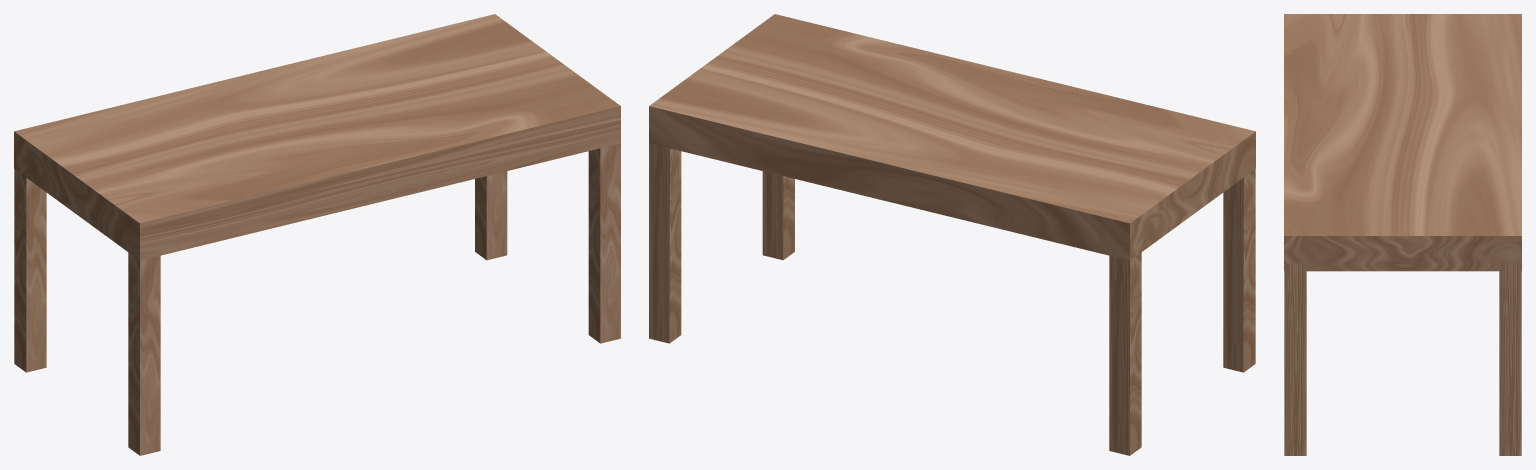
Rendered from table.fbx.
3 renders of one model, left to right at view 1: azimuth 30°, elevation 25°; view 2: azimuth 150°, elevation 25°; view 3: azimuth 270°, elevation 25°, orthographic. The views are drawn at different scales.
Visible parts, largest first — view 1: pCube1, pCube2, pCube3, pCube5, pCube4; view 2: pCube1, pCube5, pCube4, pCube2, pCube3; view 3: pCube1, pCube3, pCube4.
Boxes of the visible parts, box(x1,y1,x2,y2) form: pCube1: box(14, 14, 620, 260); pCube2: box(128, 252, 160, 455); pCube3: box(588, 143, 620, 343); pCube5: box(14, 169, 46, 372); pCube4: box(475, 171, 507, 260); pCube1: box(649, 14, 1255, 260); pCube5: box(1109, 252, 1141, 455); pCube4: box(649, 143, 681, 343); pCube2: box(1223, 169, 1255, 372); pCube3: box(762, 171, 794, 260); pCube1: box(1284, 14, 1521, 271); pCube3: box(1284, 263, 1306, 455); pCube4: box(1499, 263, 1521, 455).
Bounding box in the file's own units: 23.48 × 10.85 × 10.63.
